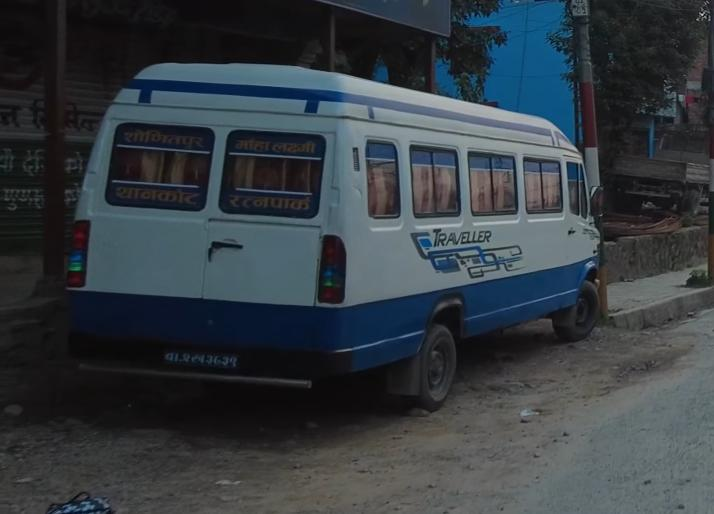micro_bus: (62, 56, 610, 425)
